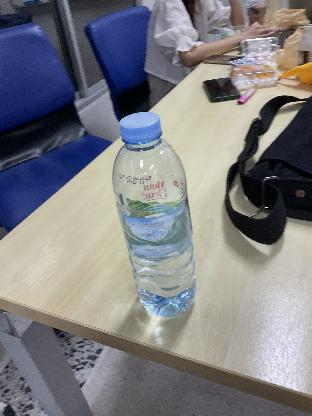Plastic Bottle: (108, 100, 201, 332)
